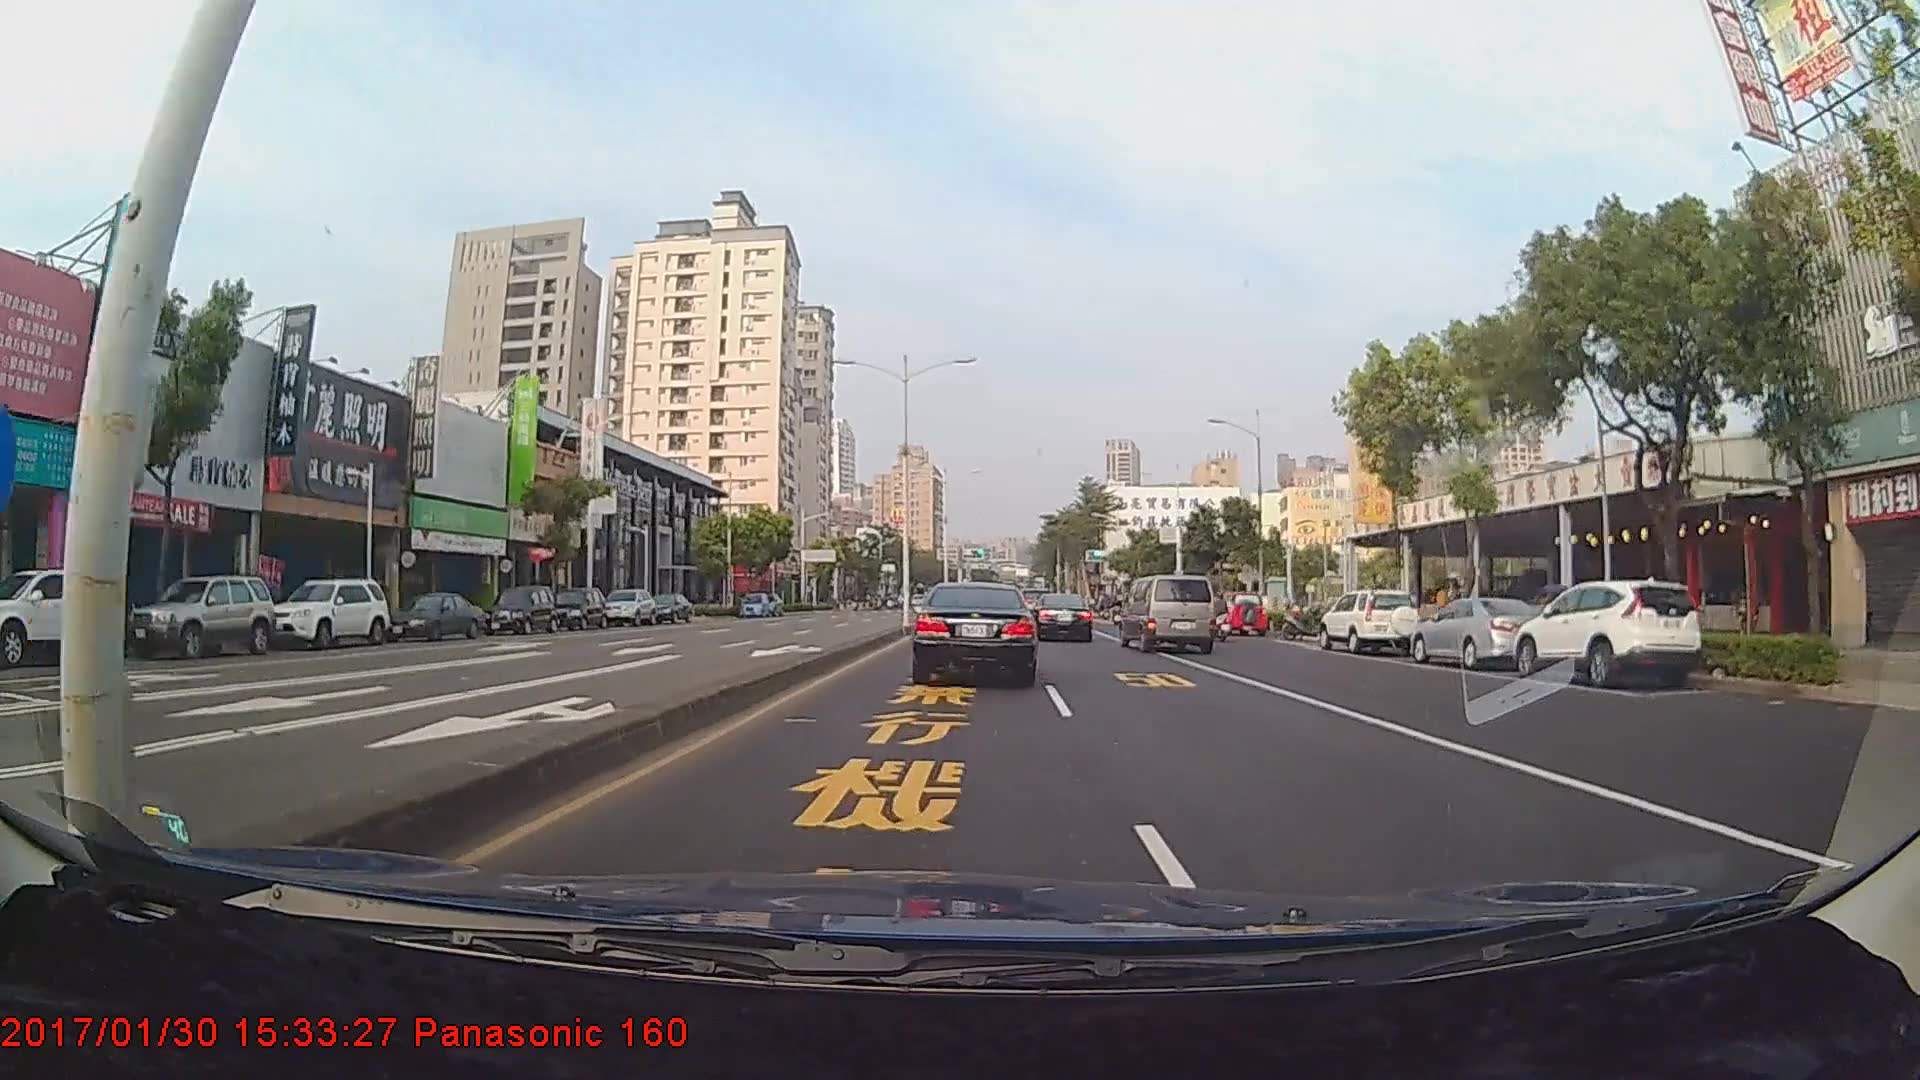rider: (1211, 590, 1238, 642)
vehicle: (1510, 576, 1699, 686), (126, 572, 275, 659), (912, 580, 1037, 685), (0, 569, 120, 670), (1407, 594, 1536, 671), (264, 573, 389, 646), (1116, 575, 1217, 655), (1319, 590, 1418, 654), (381, 592, 483, 641), (481, 583, 557, 633), (1030, 593, 1094, 644), (547, 584, 605, 628), (601, 586, 657, 625), (1218, 593, 1268, 637), (642, 588, 691, 621), (736, 591, 767, 618)
